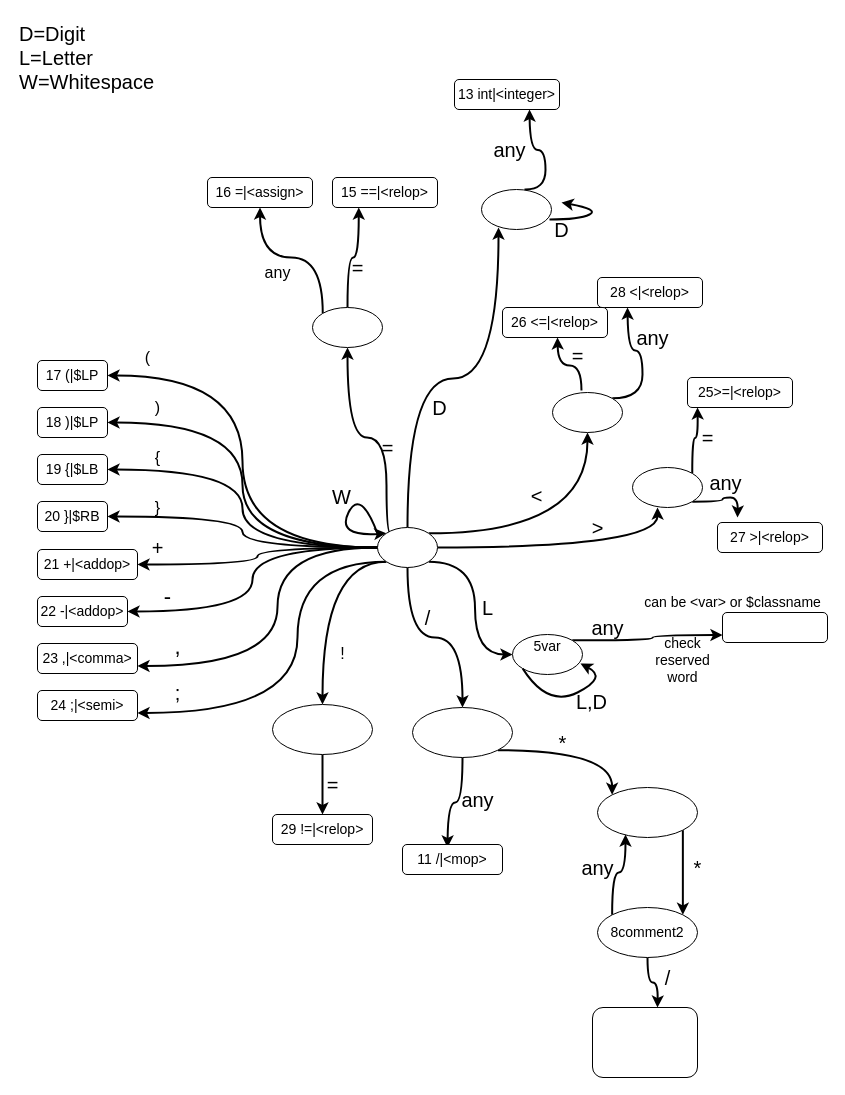
This 845x1095 diagram has some shape labels left out. Each missing label, with the centre of its shape:
"0Start" belongs at (x=407, y=547).
"10 discard comment, go back to start" belongs at (x=645, y=1042).
"14 ident|<ident>" belongs at (x=775, y=627).
"1eq" belongs at (x=347, y=327).
"2int" belongs at (x=516, y=209).
"3less" belongs at (x=587, y=412).
"4greater" belongs at (x=667, y=487).
"6comment" belongs at (x=462, y=732).
"7comment1" belongs at (x=647, y=812).
"9exclamation" belongs at (x=322, y=729).
